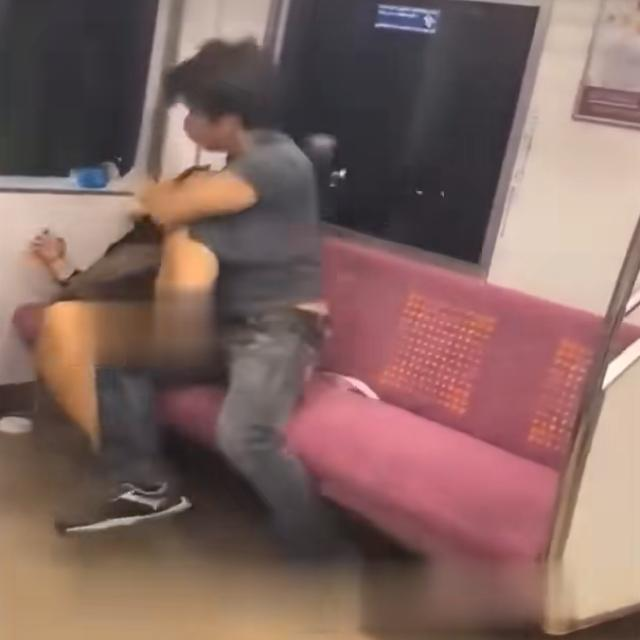fight: (29, 42, 334, 341)
